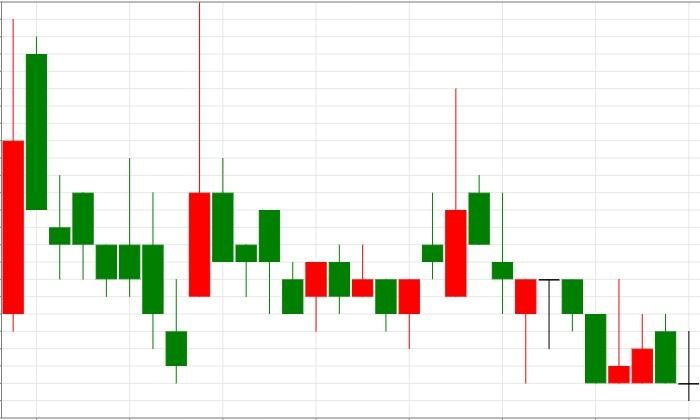inverse_hammer_rise: (26, 36, 186, 384), (468, 174, 630, 384)
